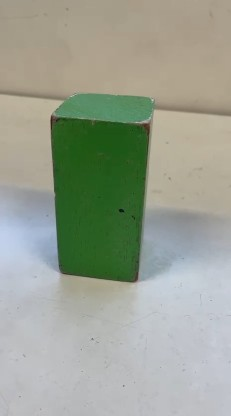green: (38, 89, 147, 280)
